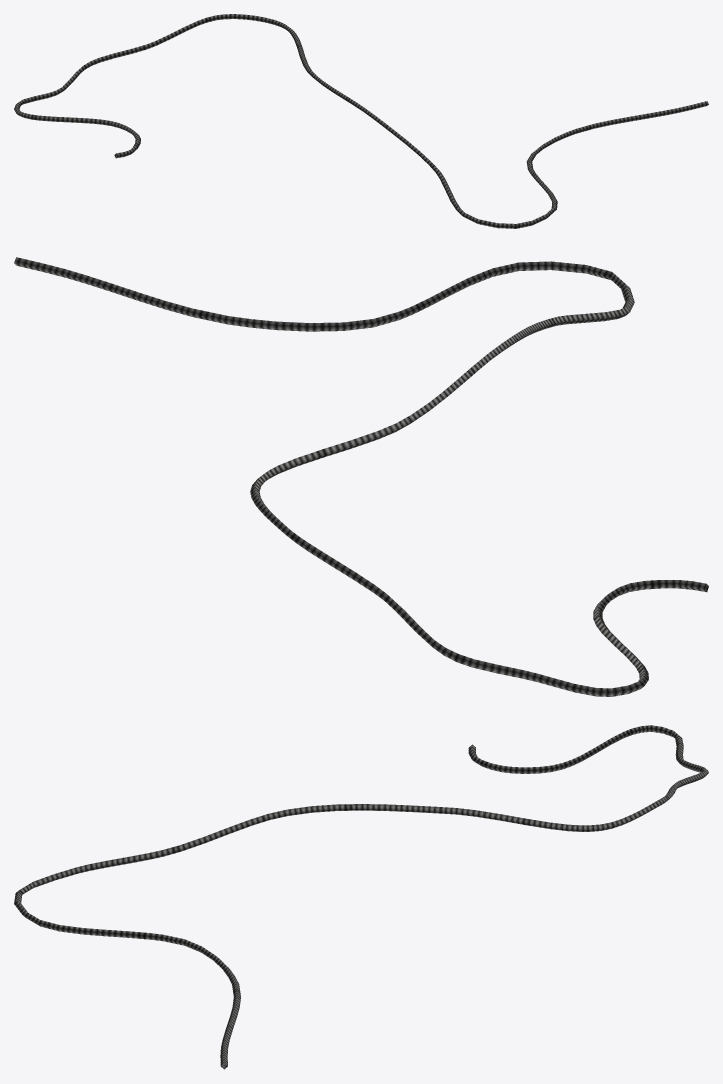
The model's file is Hose_I.fbx.
3 views of the same model, one above another, from view 1: azimuth 30°, elevation 25°; view 2: azimuth 150°, elevation 25°; view 3: azimuth 270°, elevation 25° (orthographic). The views are drawn at different scales.
Parts seen in each view (by area): view 1: GameObject; view 2: GameObject; view 3: GameObject.
Part boxes in pixels (x1,y1,x2,y2): GameObject: (14, 14, 708, 228); GameObject: (14, 257, 708, 696); GameObject: (14, 725, 708, 1069).
Bounding box in the file's own units: 32.03 × 2.96 × 27.72.
